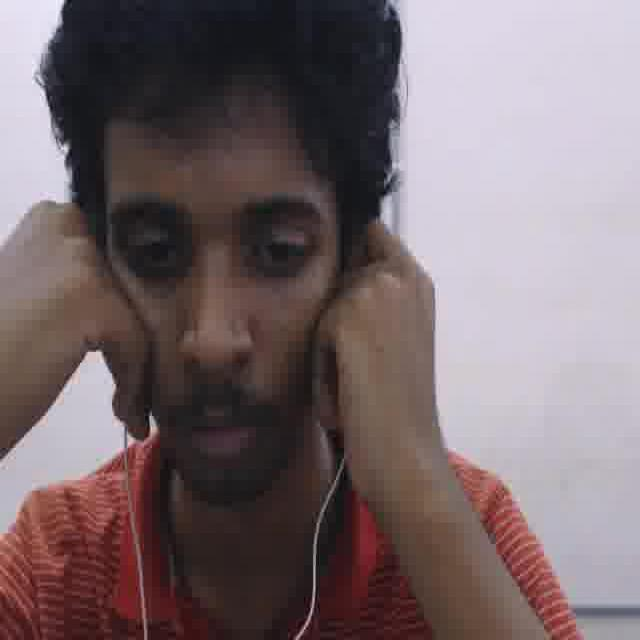Boredom: (94, 97, 336, 496)
